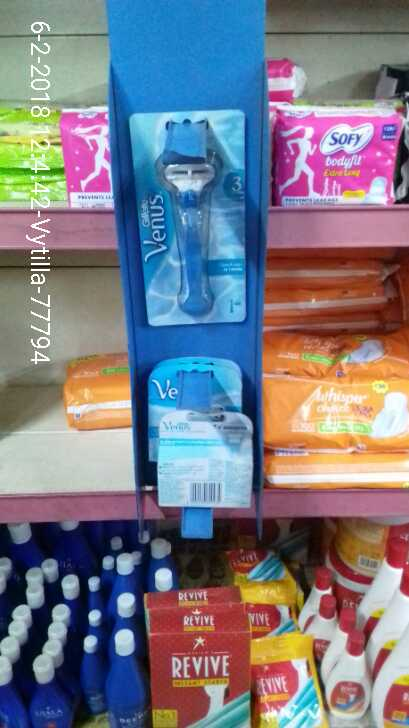venus: (132, 110, 250, 323), (136, 361, 266, 518)
